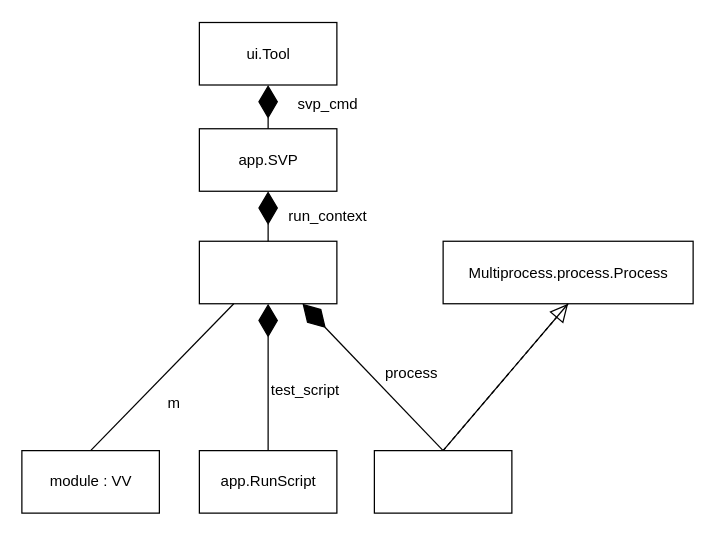
This 715x535 diagram has some shape labels left out. Here are the shapes that lost their labels. From the top down, the centre of each, then its label:
At pixel 267 272: "app.RunContext".
At pixel 442 481: "app.Multiprocess".
